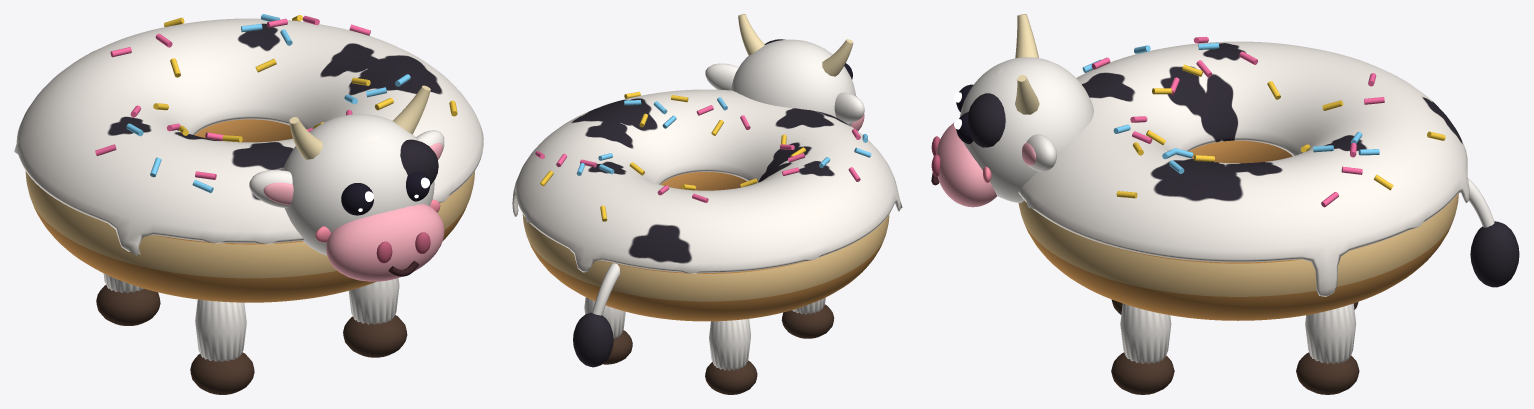
File: donutku.glb
3 renders of one model, left to right at view 1: azimuth 30°, elevation 25°; view 2: azimuth 150°, elevation 25°; view 3: azimuth 270°, elevation 25°, orthographic. The views are drawn at different scales.
Parts seen in each view (by area): view 1: kropp, hode, bein_vf, bein_hf, bein_vb; view 2: kropp, hode, bein_vb, hale, bein_vf, bein_hb; view 3: kropp, hode, bein_hb, bein_hf, hale.
Part boxes in pixels (x1,y1,x2,y2): kropp: (14, 14, 483, 302); hode: (249, 85, 444, 281); bein_vf: (190, 299, 254, 394); bein_hf: (343, 278, 407, 357); bein_vb: (96, 273, 160, 325); kropp: (512, 89, 902, 321); hode: (705, 14, 864, 130); bein_vb: (705, 319, 757, 394); hale: (573, 263, 619, 367); bein_vf: (781, 297, 834, 338); bein_hb: (584, 297, 632, 364); kropp: (1018, 36, 1469, 320); hode: (931, 14, 1093, 207); bein_hb: (1296, 303, 1359, 394); bein_hf: (1111, 303, 1174, 394); hale: (1468, 178, 1519, 287).
Size of the model in its own units: 1.59 by 1.18 by 2.04.
Materials: 17 (1 with a texture image).
